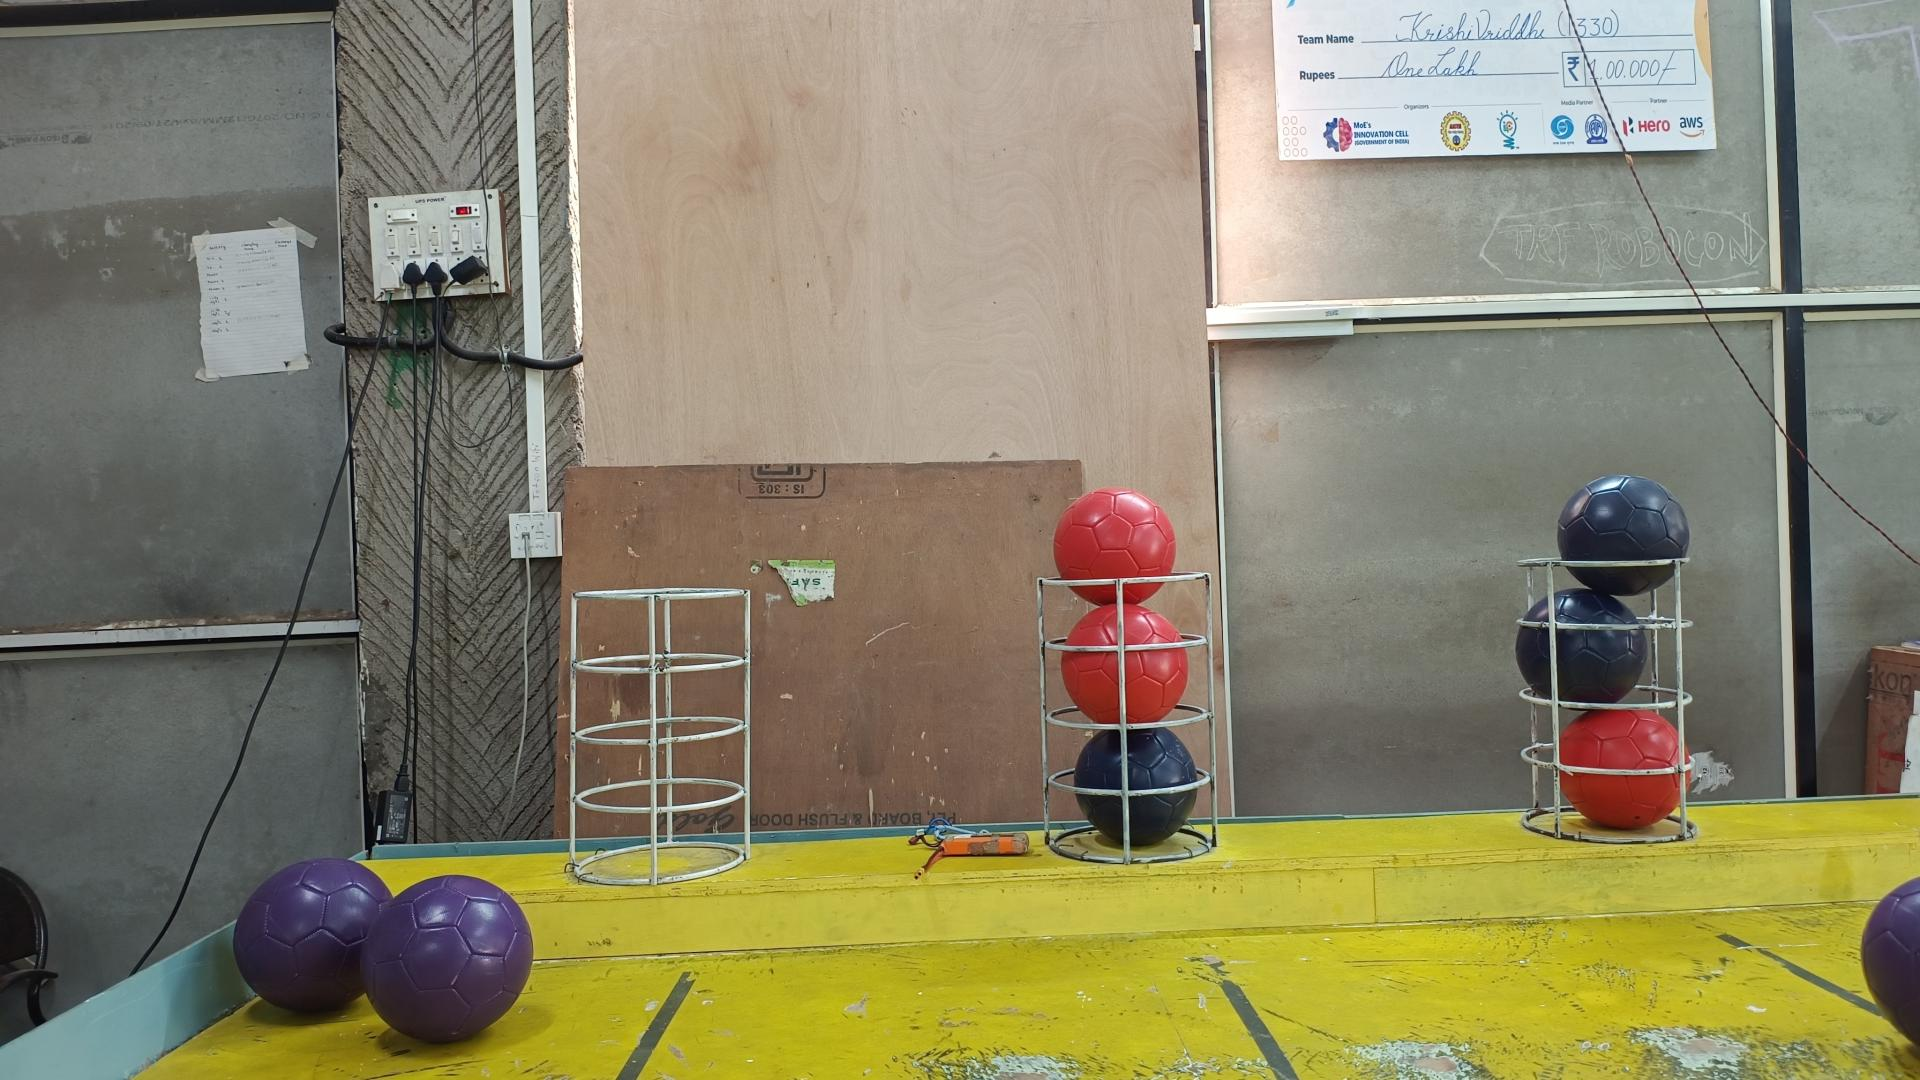dhoka: (1559, 473, 1691, 597), (1515, 589, 1646, 702), (1075, 728, 1199, 844)
laale: (1556, 709, 1691, 829), (1060, 604, 1187, 724), (1052, 489, 1176, 605)
